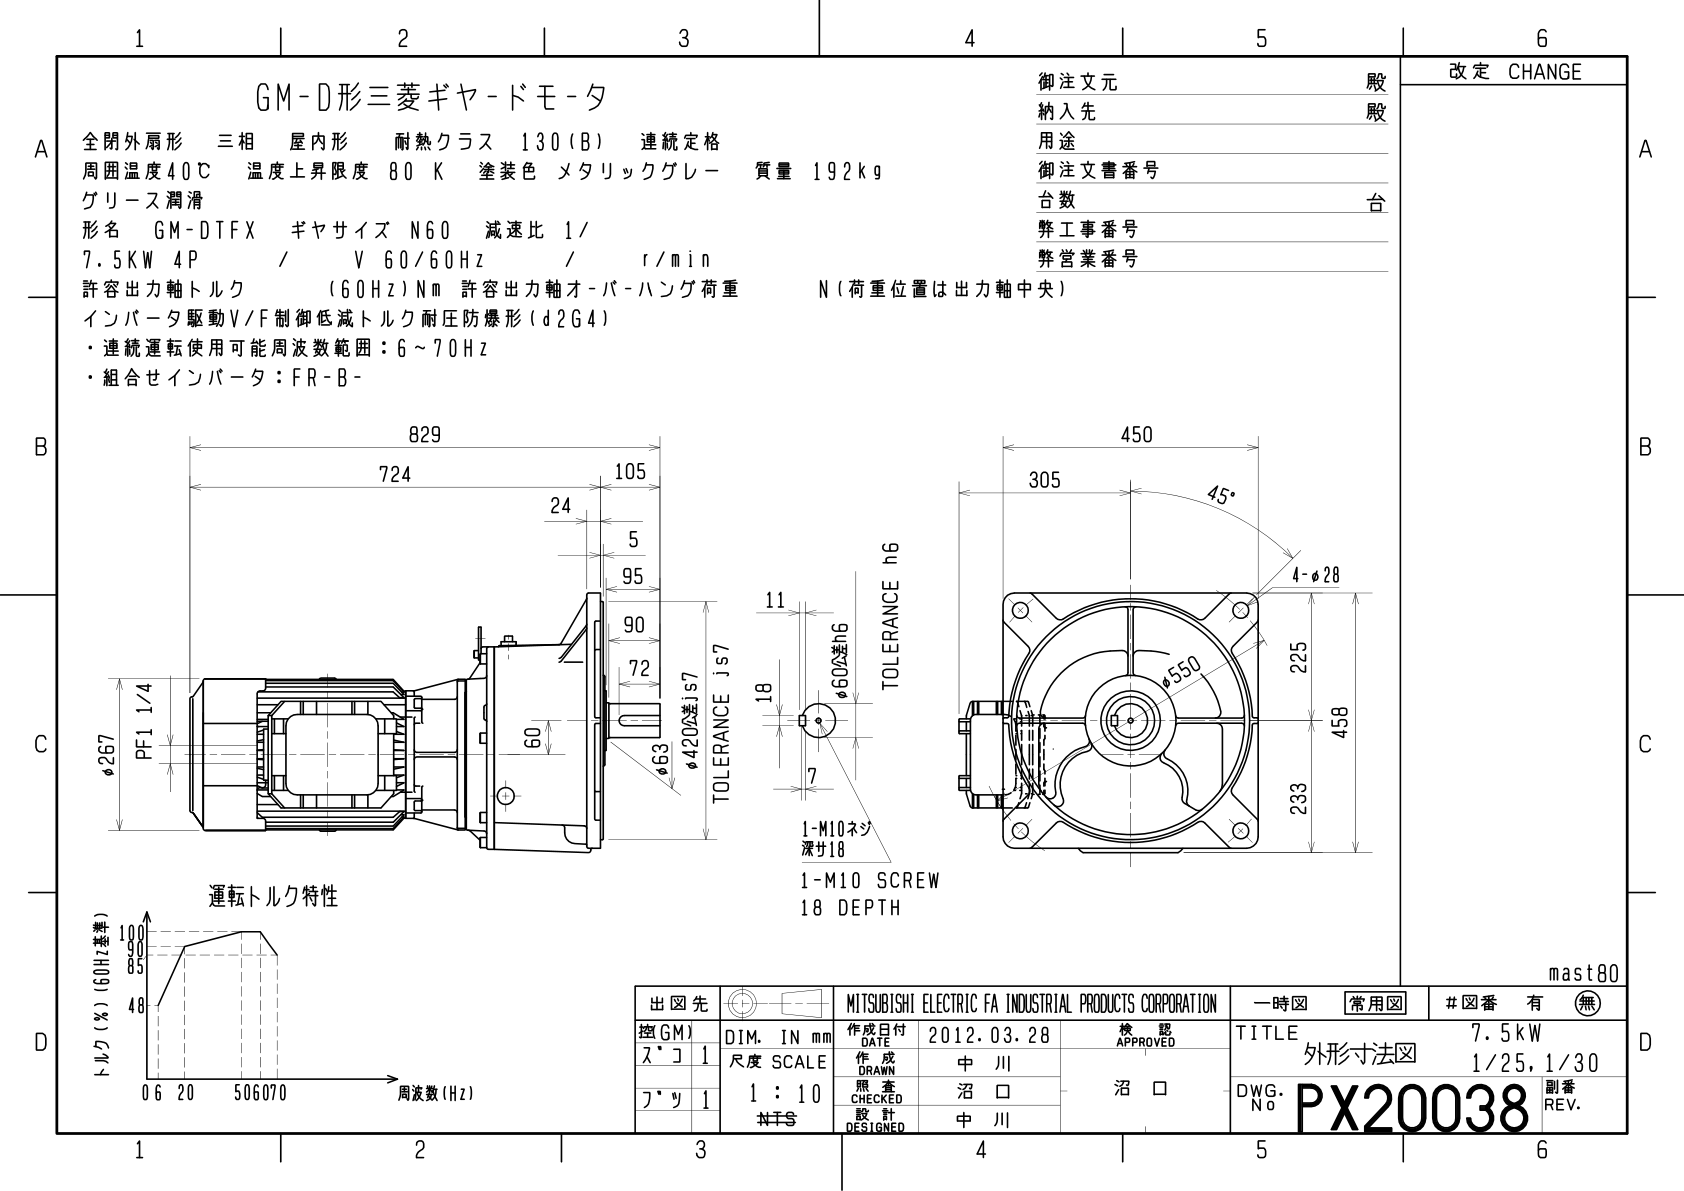GM_D_VF制御屋内_三相_フランジ: (8, 9, 1684, 1191)
